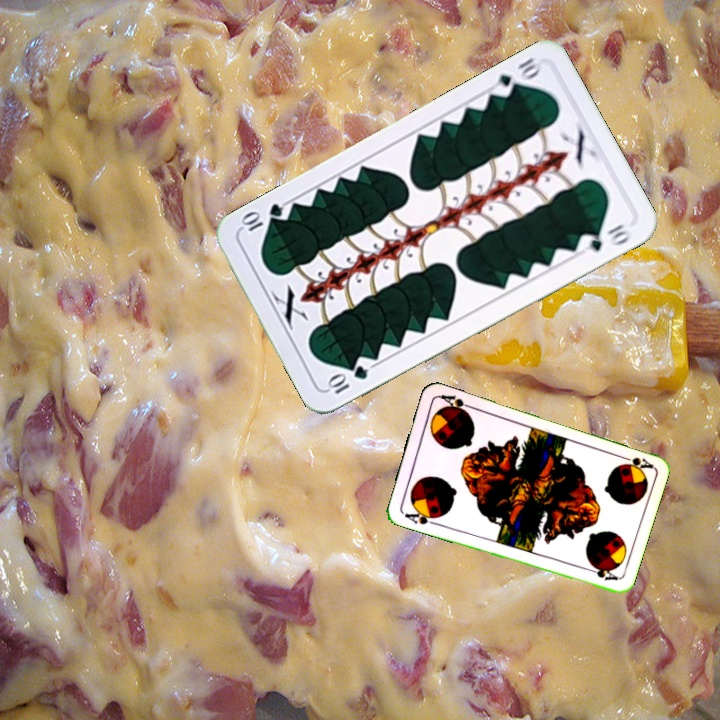G10: (487, 53, 546, 100), (323, 361, 371, 397)
SA: (399, 505, 440, 528), (615, 451, 655, 471)
